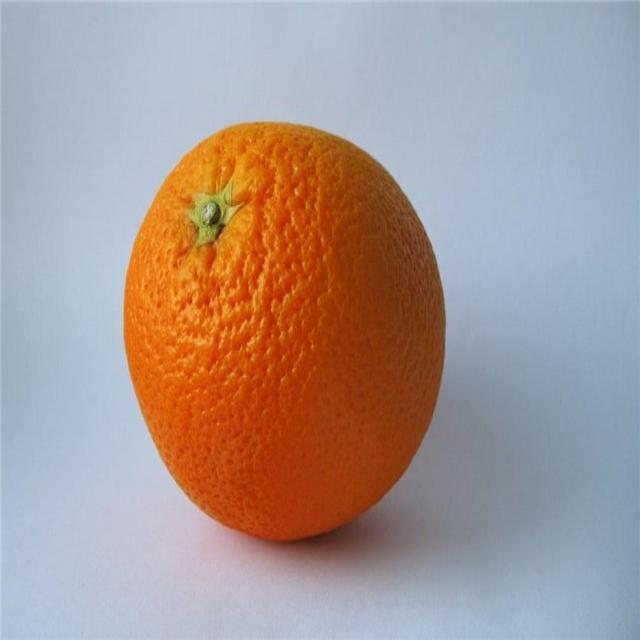Orange: (122, 122, 447, 546)
